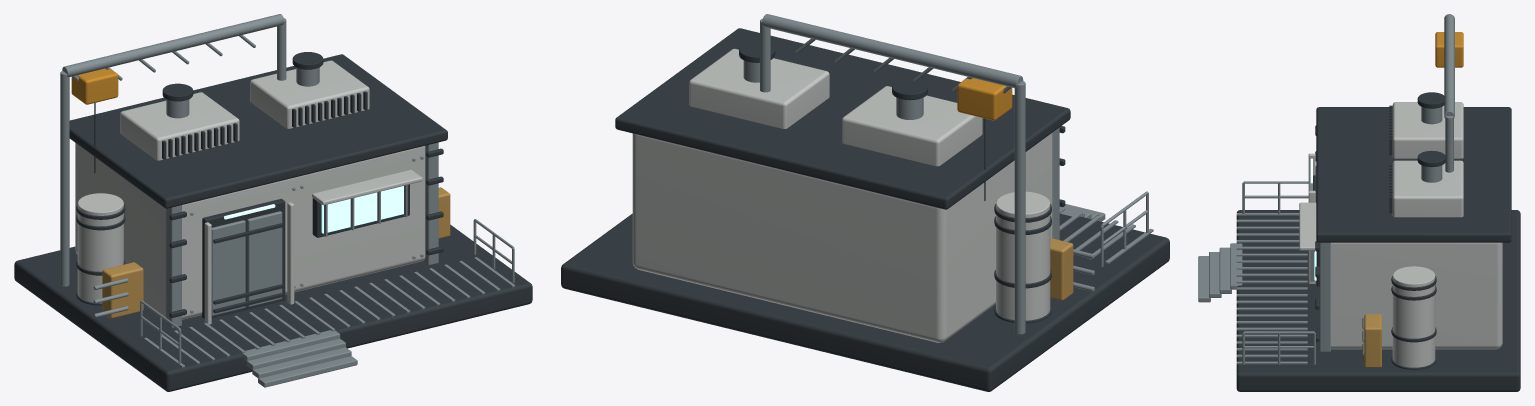
The model's file is service_bay.glb.
3 renders of one model, left to right at view 1: azimuth 30°, elevation 25°; view 2: azimuth 150°, elevation 25°; view 3: azimuth 270°, elevation 25°, orthographic. The views are drawn at different scales.
Visible parts, largest first — view 1: Foundation, Roof armored cap, Habitat shell, Roof HVAC, Roof HVAC.001, Cryo vessel.001, Door leaf.001, Door leaf, Gantry header, Glazing, Gantrypost, Airlock recess (+16 smaller); view 2: Habitat shell, Foundation, Roof armored cap, Roof HVAC.001, Roof HVAC, Cryo vessel.001, Gantry header, Gantrypost, Winch, Insulated manifold.001, Corner structure, Gantrypost.001 (+2 smaller); view 3: Foundation, Roof armored cap, Habitat shell, Cryo vessel, Roof HVAC.001, Roof HVAC, Corner structure.001, Gantry header, Insulated manifold, Window visor, Winch, Stair.001 (+14 smaller).
Part boxes in pixels (x1,y1,x2,y2): Foundation: (14, 224, 532, 391); Roof armored cap: (69, 54, 447, 208); Habitat shell: (75, 143, 425, 319); Roof HVAC: (120, 92, 239, 160); Roof HVAC.001: (250, 60, 369, 128); Cryo vessel.001: (77, 193, 123, 303); Door leaf.001: (247, 211, 282, 306); Door leaf: (211, 220, 245, 315); Gantry header: (62, 14, 284, 76); Glazing: (321, 186, 403, 233); Gantrypost: (60, 71, 69, 286); Airlock recess: (202, 198, 285, 318); Habitat shell: (632, 133, 1052, 342); Foundation: (561, 213, 1169, 391); Roof armored cap: (615, 28, 1070, 209); Roof HVAC.001: (689, 48, 829, 128); Roof HVAC: (842, 86, 982, 166); Cryo vessel.001: (996, 191, 1050, 320); Gantry header: (762, 14, 1023, 88); Gantrypost: (1014, 81, 1025, 334); Winch: (957, 78, 1012, 120); Insulated manifold.001: (1050, 238, 1073, 300); Corner structure: (1052, 127, 1059, 239); Gantrypost.001: (760, 18, 770, 92); Foundation: (1236, 210, 1520, 391); Roof armored cap: (1316, 107, 1511, 242); Habitat shell: (1330, 242, 1502, 349); Cryo vessel: (1392, 266, 1435, 367); Roof HVAC.001: (1392, 160, 1463, 217); Roof HVAC: (1392, 102, 1463, 158); Corner structure.001: (1319, 242, 1330, 351); Gantry header: (1444, 14, 1454, 118); Insulated manifold: (1364, 314, 1381, 367); Window visor: (1299, 202, 1316, 250); Winch: (1435, 32, 1463, 67); Stair.001: (1219, 247, 1231, 293).
Bounding box in the file's own units: 11.1 × 6.85 × 9.08.
